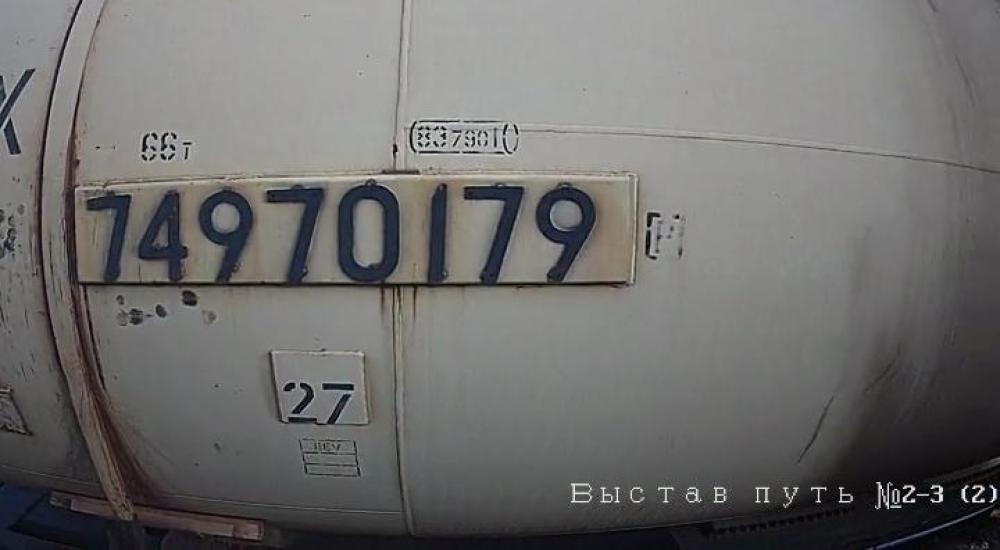Wagon-number: (83, 176, 611, 286)
